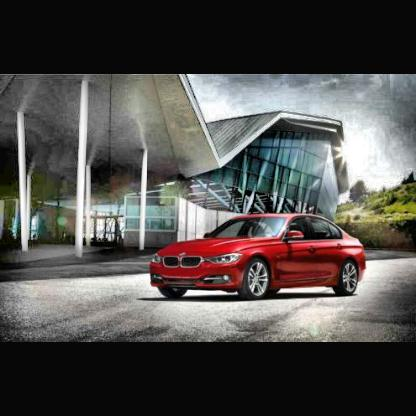BMW 3 Series Sedan 2012: (152, 213, 369, 302)
